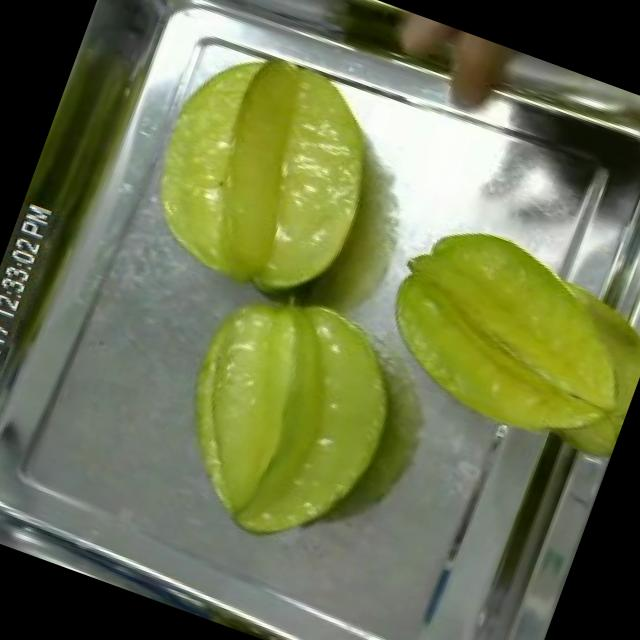fruit: (134, 254, 436, 582), (114, 19, 412, 333), (348, 198, 640, 479)
